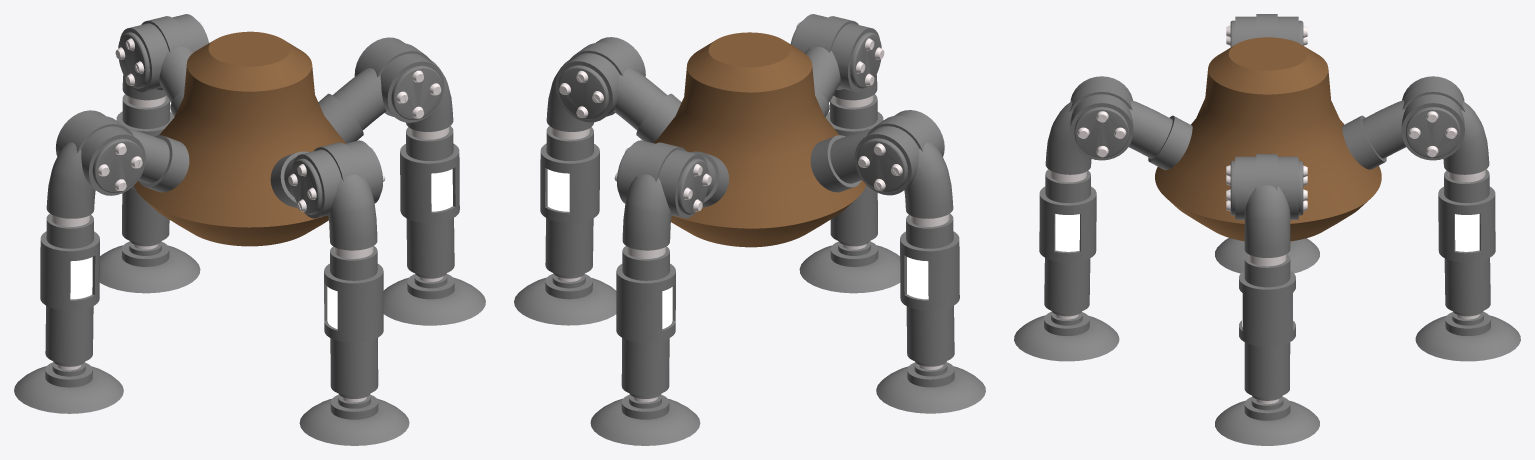
Rendered from Ink_Bomber_-_Legs.fbx.
3 views of the same model, side by side, from view 1: azimuth 30°, elevation 25°; view 2: azimuth 150°, elevation 25°; view 3: azimuth 270°, elevation 25° (orthographic). The views are drawn at different scales.
Parts seen in each view (by area): view 1: Cylinder.001; view 2: Cylinder.001; view 3: Cylinder.001.
Part boxes in pixels (bbox=[...]): Cylinder.001: bbox=[14, 14, 485, 445]; Cylinder.001: bbox=[514, 14, 985, 445]; Cylinder.001: bbox=[1014, 14, 1520, 445].
Size of the model in its own units: 130 by 80.73 by 130.
